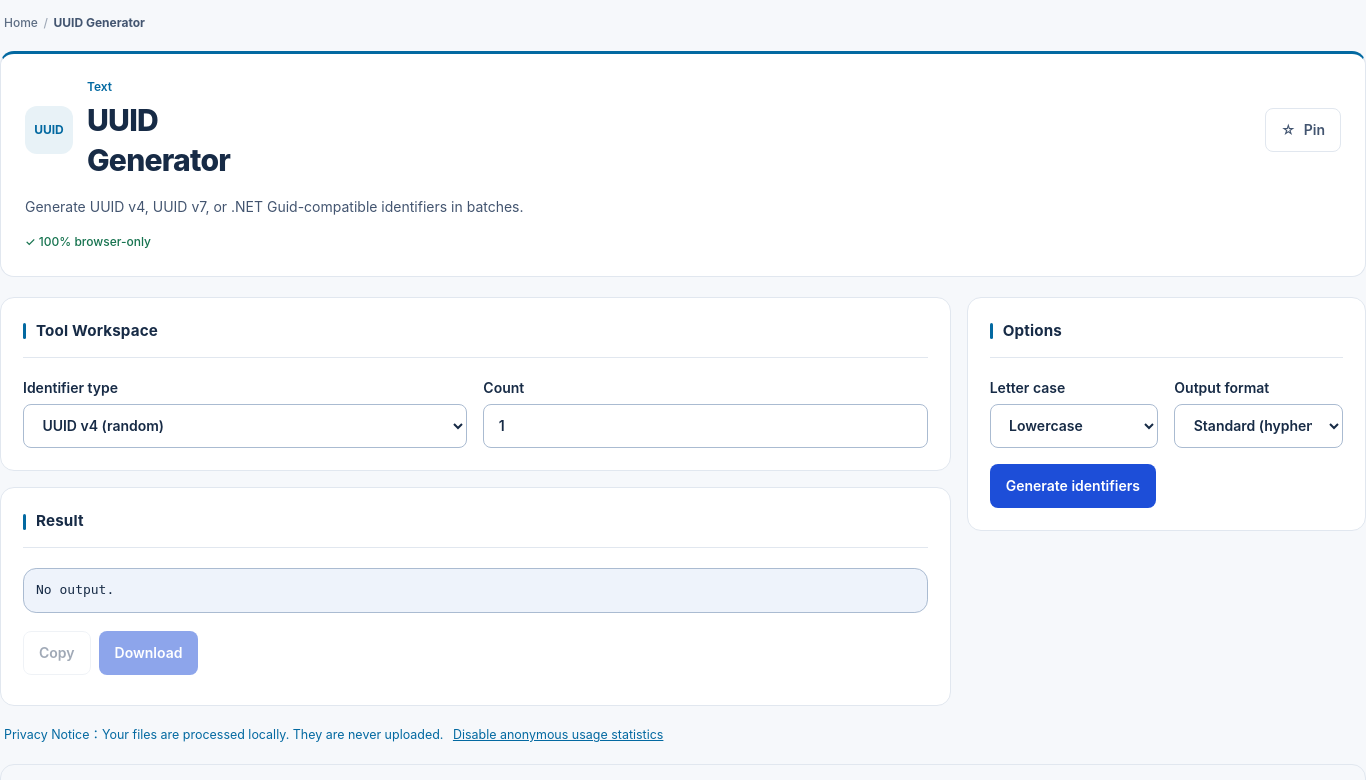
Test: UuidPage › explains how to recover when secure randomness is unavailable
What coordinates should you click on to do the following:
click the button "Generate identifiers"
I would click on:
 (1073, 486)
Its box is left=990, top=464, right=1156, bottom=508.
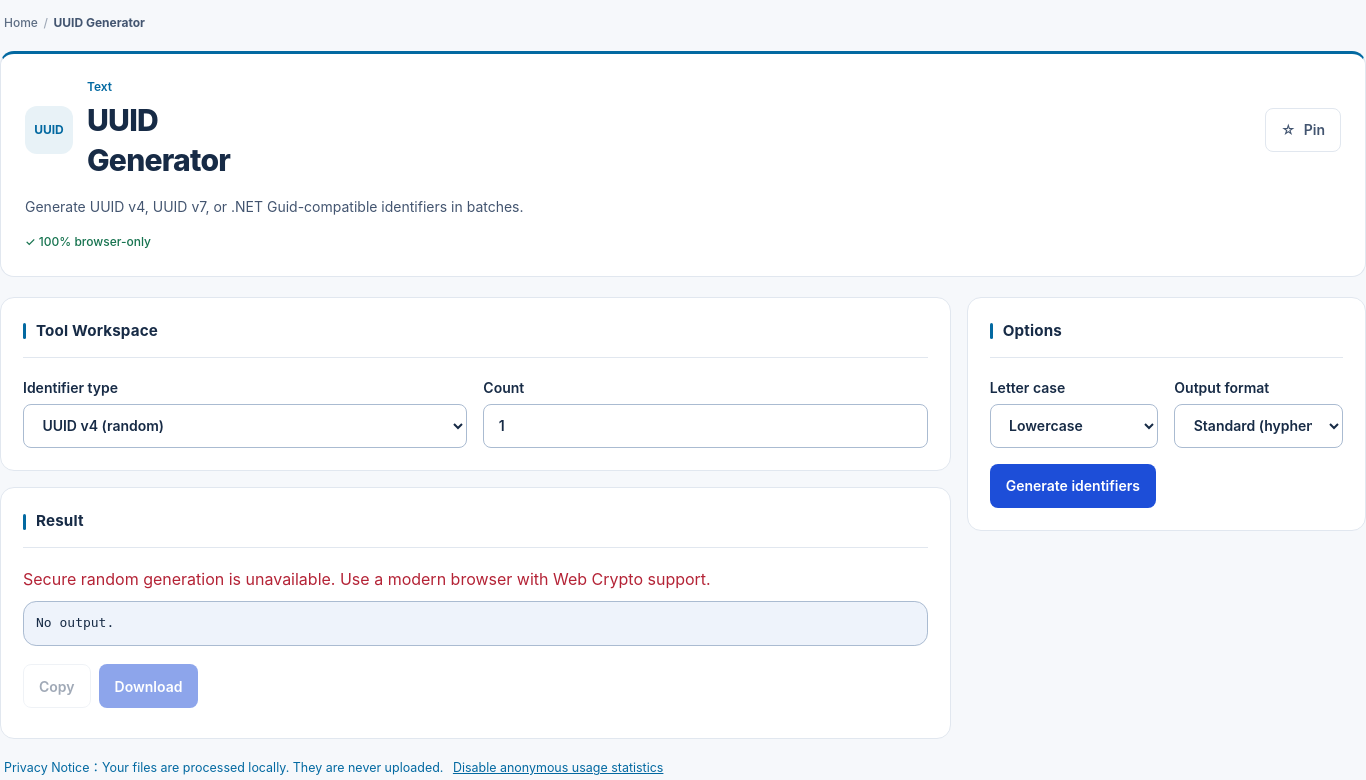
Expected: the message shows "Secure random generation is unavailable. Use a modern browser with Web Crypto support.", left=23, top=569, right=711, bottom=589
